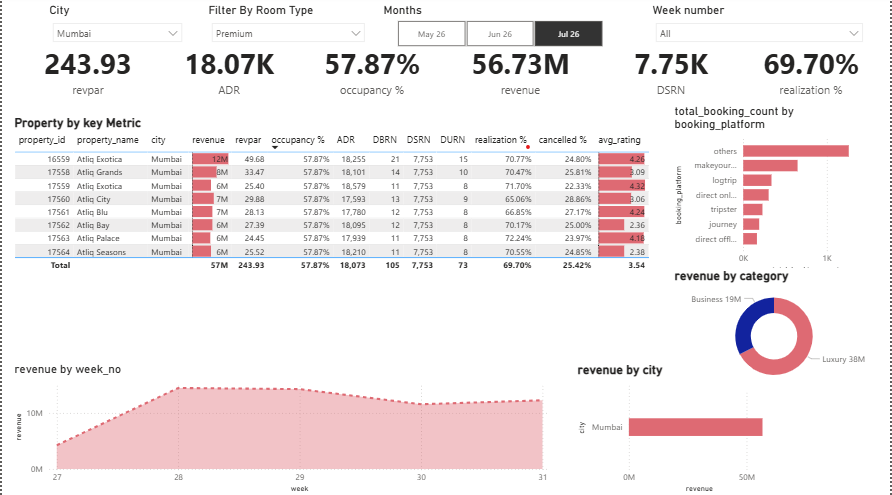

The page's visual inventory and layout, read from the dashboard file:
{"tool":"powerbi","page":{"name":"Page 1","canvas":[1280,720],"ordinal":0},"visuals":[{"type":"card","fields":{"Values":["measure.revpar"]},"box":[28.8,59,190.1,96.5],"z":0},{"type":"card","fields":{"Values":["measure.ADR"]},"box":[231.8,59,190.1,96.5],"z":1000},{"type":"card","fields":{"Values":["measure.occupancy %"]},"box":[437.8,59,190.1,96.5],"z":2000},{"type":"card","fields":{"Values":["measure.revenue"]},"box":[652.3,59,188.6,96.5],"z":3000},{"type":"card","fields":{"Values":["measure.DSRN"]},"box":[868.3,59,190.1,96.5],"z":4000},{"type":"card","fields":{"Values":["measure.realization %"]},"box":[1069.9,59,190.1,96.5],"z":5000},{"type":"lineChart","fields":{"Category":["dim_date.week_no"],"Y":["measure.revenue"]},"box":[13,527,780.5,193],"z":6000},{"type":"tableEx","title":"Property by key Metric","fields":{"Values":["dim_hotels.property_id","dim_hotels.property_name","dim_hotels.city","measure.revenue","measure.revpar","measure.occupancy %","measure.ADR","measure.DBRN","measure.DSRN","measure.DURN","measure.realization %","measure.cancelled %"]},"box":[13,171.4,930.2,341.3],"z":7000},{"type":"slicer","title":"Filter By Room Type","fields":{"Values":["dim_rooms.room_class"]},"box":[292.3,10.1,240.5,69.1],"z":8000},{"type":"slicer","title":"Months","fields":{"Values":["dim_date.mmm yy"]},"box":[544.3,10.1,344.2,69.1],"z":9000},{"type":"slicer","title":"City","fields":{"Values":["dim_hotels.city"]},"box":[63.4,10.1,205.9,69.1],"z":10000},{"type":"slicer","title":"Week number","fields":{"Values":["dim_date.week no"]},"box":[931.7,10.1,318.2,69.1],"z":11000},{"type":"barChart","fields":{"Category":["dim_hotels.city"],"Y":["measure.revenue"]},"box":[823.7,527,299.5,193],"z":11001},{"type":"barChart","fields":{"Category":["fact_bookings.booking_platform"],"Y":["measure.total_booking_count"]},"box":[963.4,155.5,296.6,249.1],"z":11002},{"type":"donutChart","title":"revenue by category","fields":{"Category":["dim_hotels.category"],"Y":["measure.revenue"]},"box":[963.4,391.7,296.6,175.7],"z":11003}]}

Visuals, with their boxes in screenshot pixels (x1, y1, x2, y2), scaled from the page's 1280x720 canvas onto the 892x495 screenshot:
card - measure.revpar: locate(20, 41, 153, 107)
card - measure.ADR: locate(162, 41, 294, 107)
card - measure.occupancy %: locate(305, 41, 438, 107)
card - measure.revenue: locate(455, 41, 586, 107)
card - measure.DSRN: locate(605, 41, 738, 107)
card - measure.realization %: locate(746, 41, 878, 107)
lineChart - dim_date.week_no x measure.revenue: locate(9, 362, 553, 494)
"Property by key Metric" tableEx: locate(9, 118, 657, 352)
"Filter By Room Type" slicer: locate(204, 7, 371, 54)
"Months" slicer: locate(379, 7, 619, 54)
"City" slicer: locate(44, 7, 188, 54)
"Week number" slicer: locate(649, 7, 871, 54)
barChart - dim_hotels.city x measure.revenue: locate(574, 362, 783, 494)
barChart - fact_bookings.booking_platform x measure.total_booking_count: locate(671, 107, 878, 278)
"revenue by category" donutChart: locate(671, 269, 878, 390)
